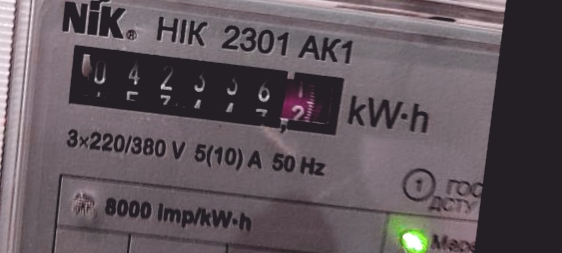0: (90, 57, 109, 86)
1: (293, 76, 308, 100)
2: (158, 61, 177, 92), (288, 102, 306, 122)
3: (222, 66, 241, 98), (190, 64, 208, 94)
4: (124, 56, 145, 87)
6: (255, 73, 276, 105)
screen: (54, 30, 358, 148)
